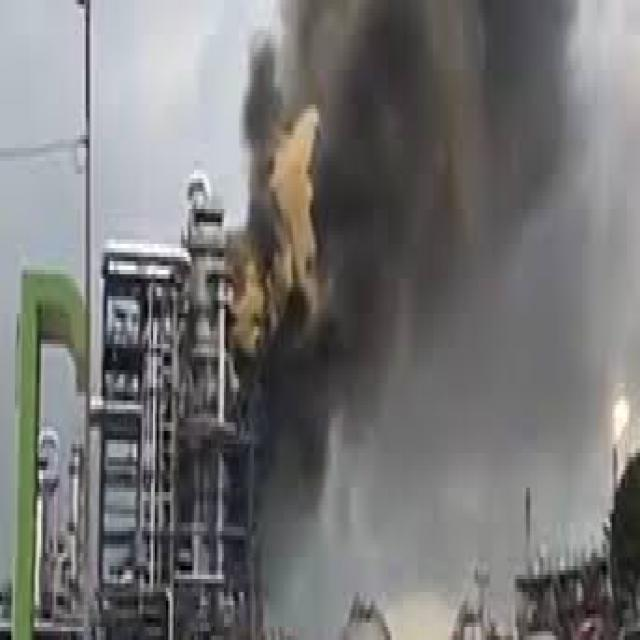smoke: (224, 4, 590, 505)
